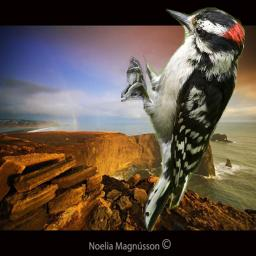Woodpecker: (121, 4, 245, 232)
